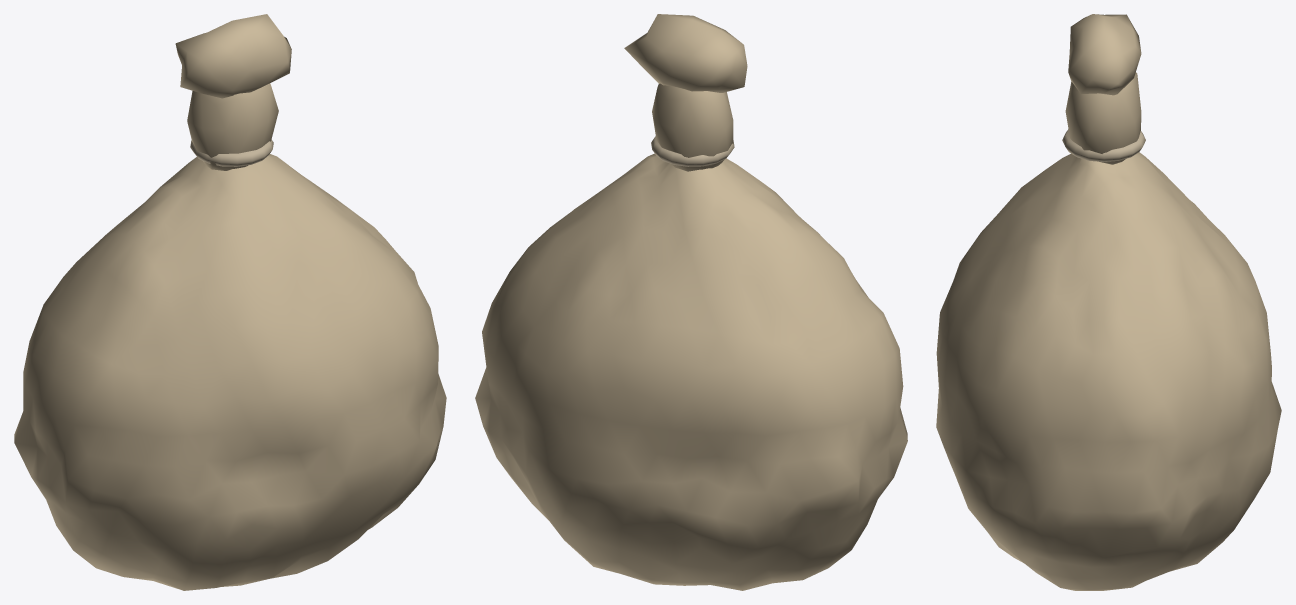
The model's file is flour_sack.glb.
3 views of the same model, side by side, from view 1: azimuth 30°, elevation 25°; view 2: azimuth 150°, elevation 25°; view 3: azimuth 270°, elevation 25° (orthographic).
Visible parts, largest first — view 1: flour_sack; view 2: flour_sack; view 3: flour_sack.
Part boxes in pixels (x1,y1,x2,y2): flour_sack: [14, 14, 446, 590]; flour_sack: [475, 14, 907, 590]; flour_sack: [936, 14, 1281, 590].
Size of the model in its own units: 0.352 by 0.4642 by 0.2719.
